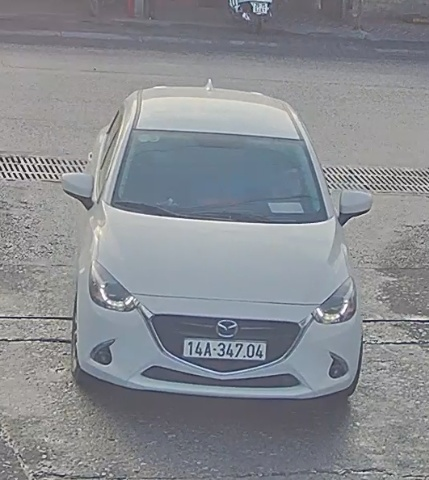vehicle plate: (172, 333, 278, 364)
